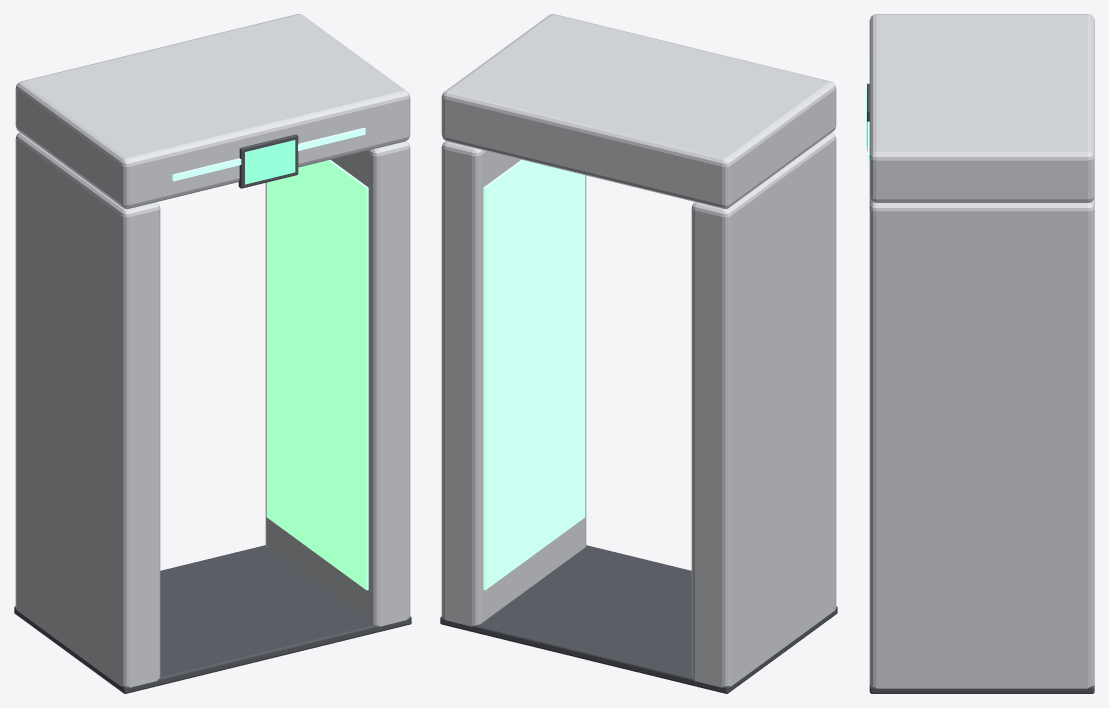
File: scanner_arch_security_gate.glb
The picture shows the model from 3 angles, left to right: view 1: azimuth 30°, elevation 25°; view 2: azimuth 150°, elevation 25°; view 3: azimuth 270°, elevation 25°; orthographic projection.
Parts seen in each view (by area): view 1: GD_scanner_arch_security_gate__m0, GD_scanner_arch_security_gate__m1, GD_scanner_arch_security_gate__m2, GD_scanner_arch_security_gate__m3; view 2: GD_scanner_arch_security_gate__m0, GD_scanner_arch_security_gate__m1, GD_scanner_arch_security_gate__m2; view 3: GD_scanner_arch_security_gate__m0, GD_scanner_arch_security_gate__m2.
Boxes of the visible parts, box(x1,y1,x2,y2) form: GD_scanner_arch_security_gate__m0: box(15, 14, 410, 687); GD_scanner_arch_security_gate__m1: box(172, 127, 368, 590); GD_scanner_arch_security_gate__m2: box(14, 134, 411, 693); GD_scanner_arch_security_gate__m3: box(245, 140, 295, 184); GD_scanner_arch_security_gate__m0: box(441, 14, 836, 687); GD_scanner_arch_security_gate__m1: box(483, 159, 585, 590); GD_scanner_arch_security_gate__m2: box(440, 545, 837, 693); GD_scanner_arch_security_gate__m0: box(869, 14, 1094, 688); GD_scanner_arch_security_gate__m2: box(867, 83, 1094, 693).
Size of the model in its own units: 1.5 by 2.65 by 1.02.
